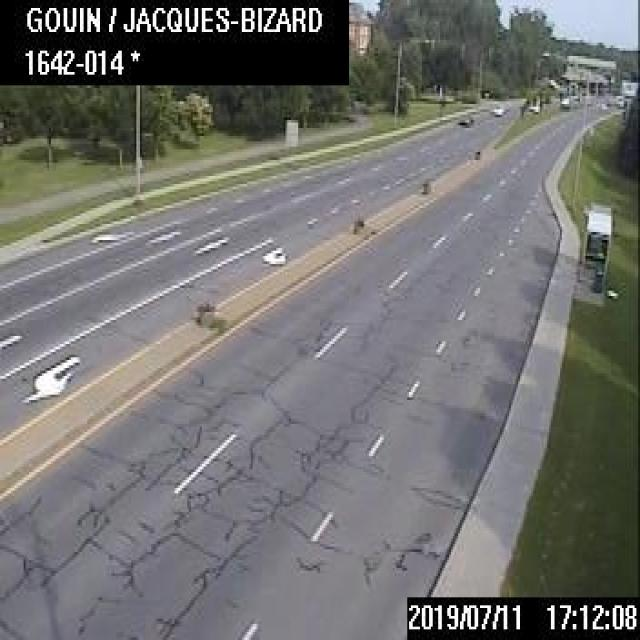vehicle: (492, 103, 502, 114)
